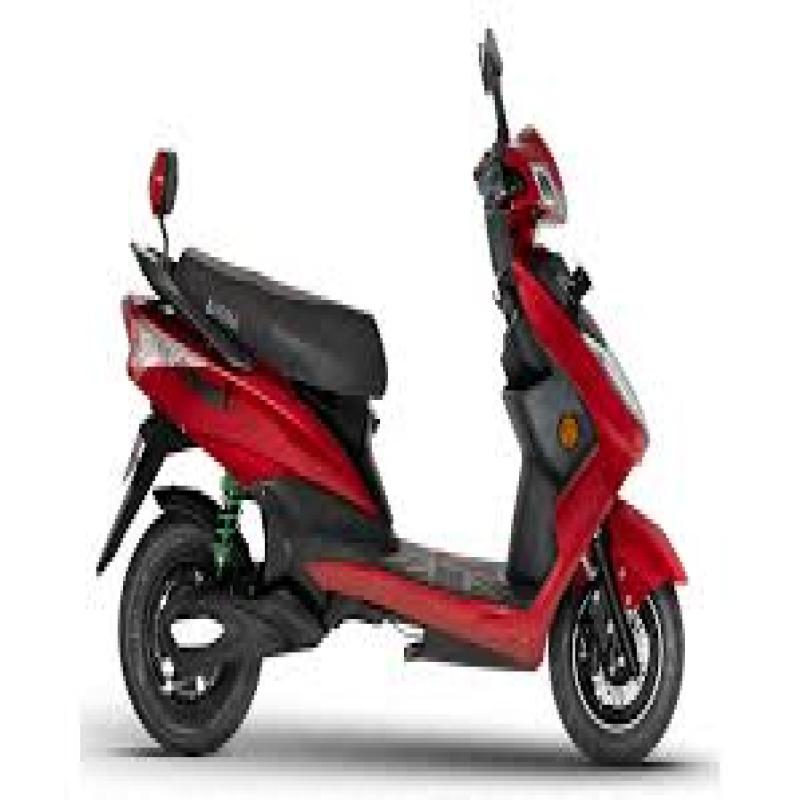bike: (103, 16, 694, 772)
